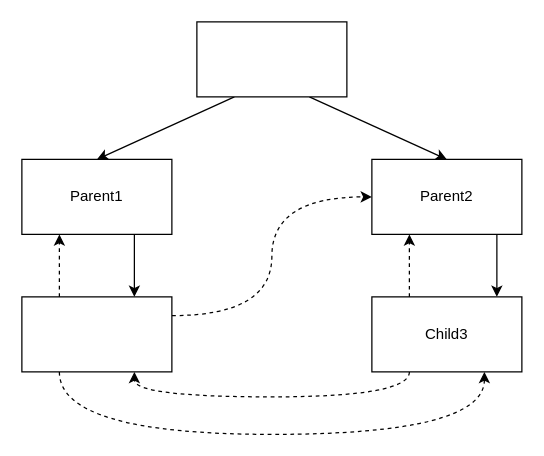
This 544x456 diagram has some shape labels left out. Here are the shapes that lost their labels. From the top down, the centre of each, then its label:
At point (271, 59): "Root".
At point (96, 334): "Child1".
